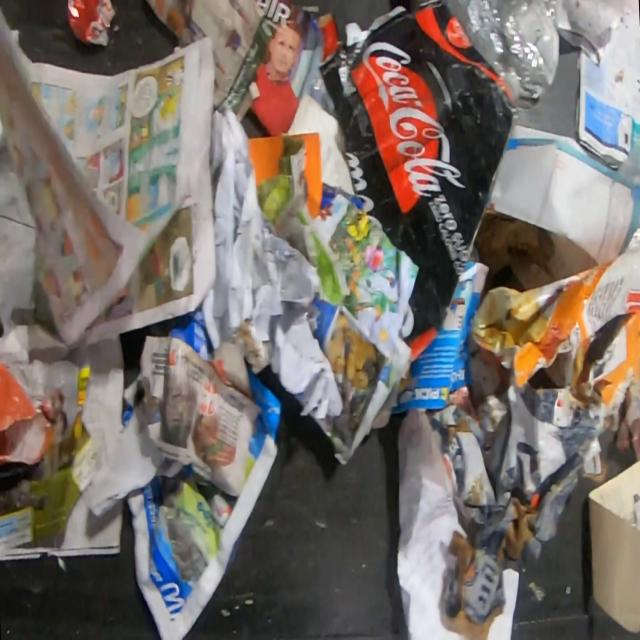cardboard: (426, 369, 614, 640), (468, 249, 640, 416), (474, 212, 598, 291), (622, 224, 640, 254)
metal: (66, 0, 116, 48)
soft_plastic: (316, 0, 520, 367), (440, 0, 562, 109)
